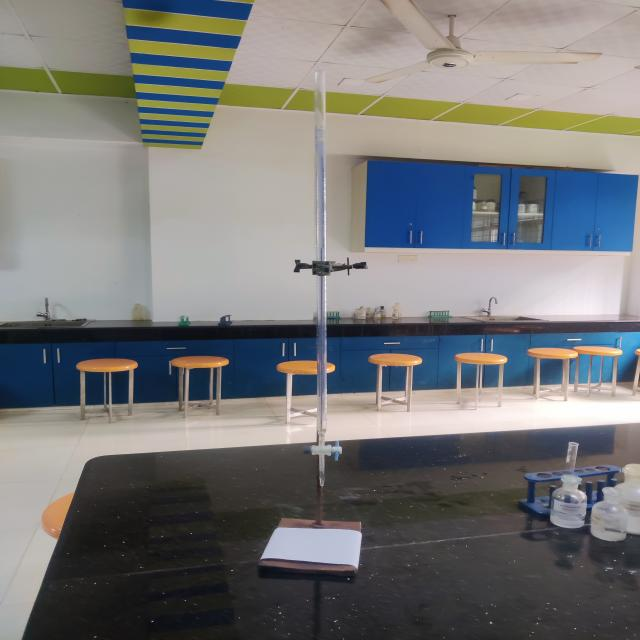Burette_Stands: (252, 53, 384, 610)
